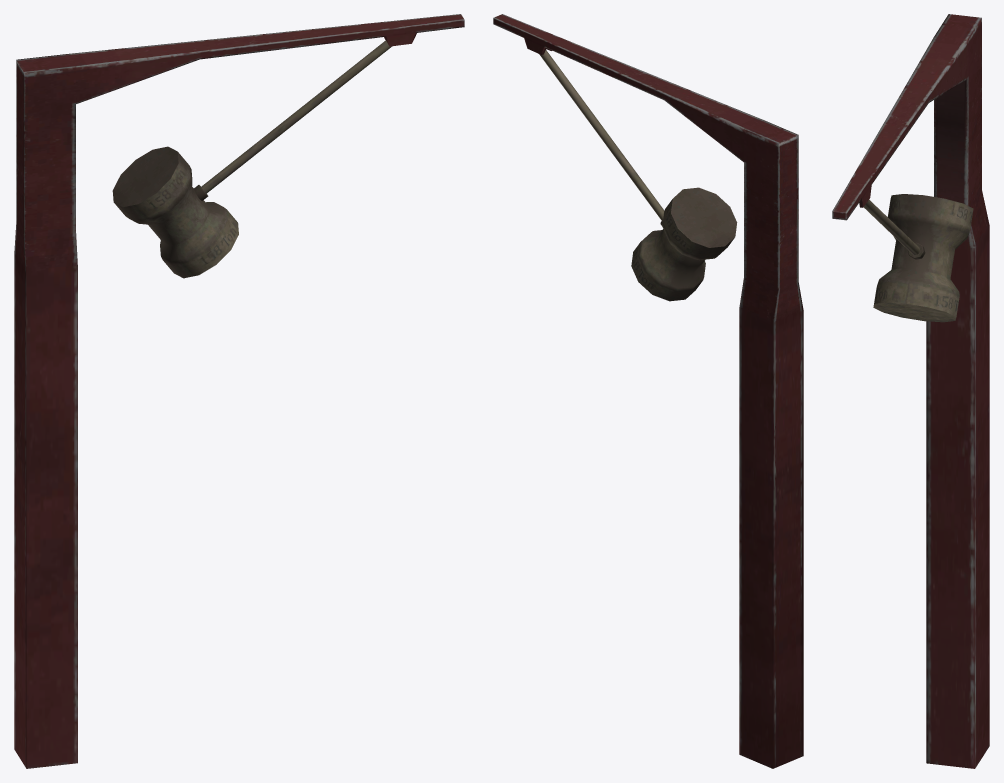
Rendered from hanging_bell.fbx.
3 views of the same model, side by side, from view 1: azimuth 30°, elevation 25°; view 2: azimuth 150°, elevation 25°; view 3: azimuth 270°, elevation 25° (orthographic). The views are drawn at different scales.
Parts seen in each view (by area): view 1: leg, molot; view 2: leg, molot; view 3: leg, molot.
Boxes of the visible parts, x1,y1,x2,y2 form: leg: (14,14,464,768); molot: (112,40,391,278); leg: (493,14,803,768); molot: (539,50,737,301); leg: (832,14,989,768); molot: (863,194,973,322).
Bounding box in the file's own units: 4476 × 7605 × 1491.
